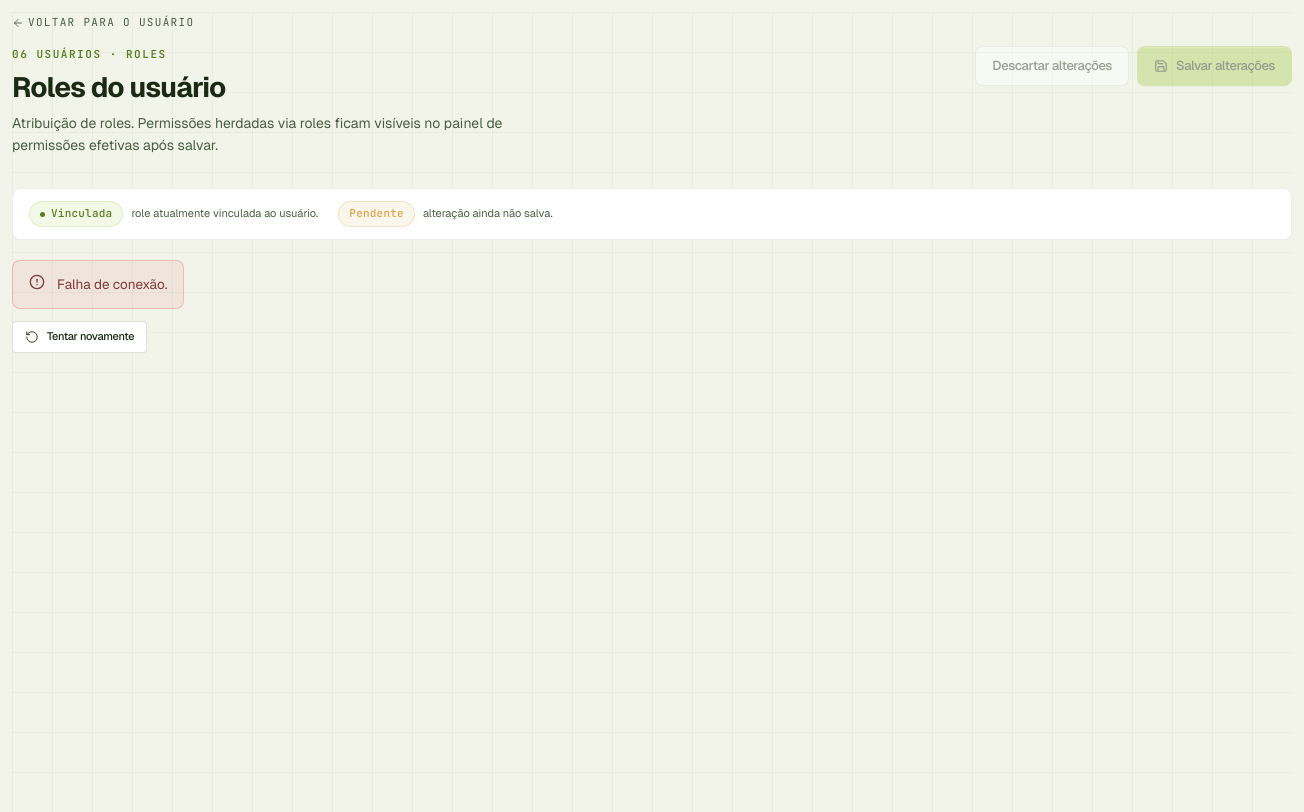
Test: UserRolesShellPage — loading e erro inicial › retry refaz fetch e renderiza grupo após sucesso
Click the button with test id "user-roles-retry": (80,337) 12,321 -> 147,353
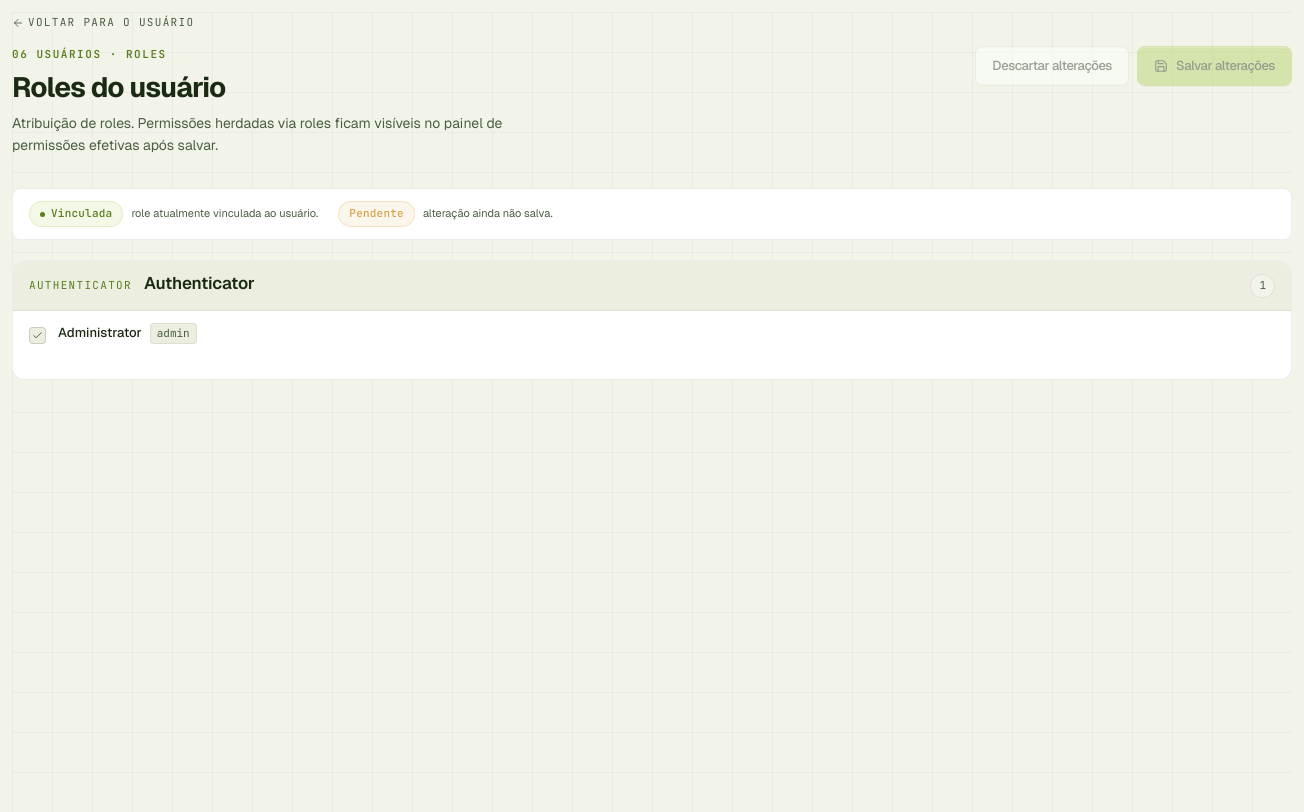
Check: the element with test id "user-roles-group-authenticator" is shown, box 12,260 -> 1292,380
